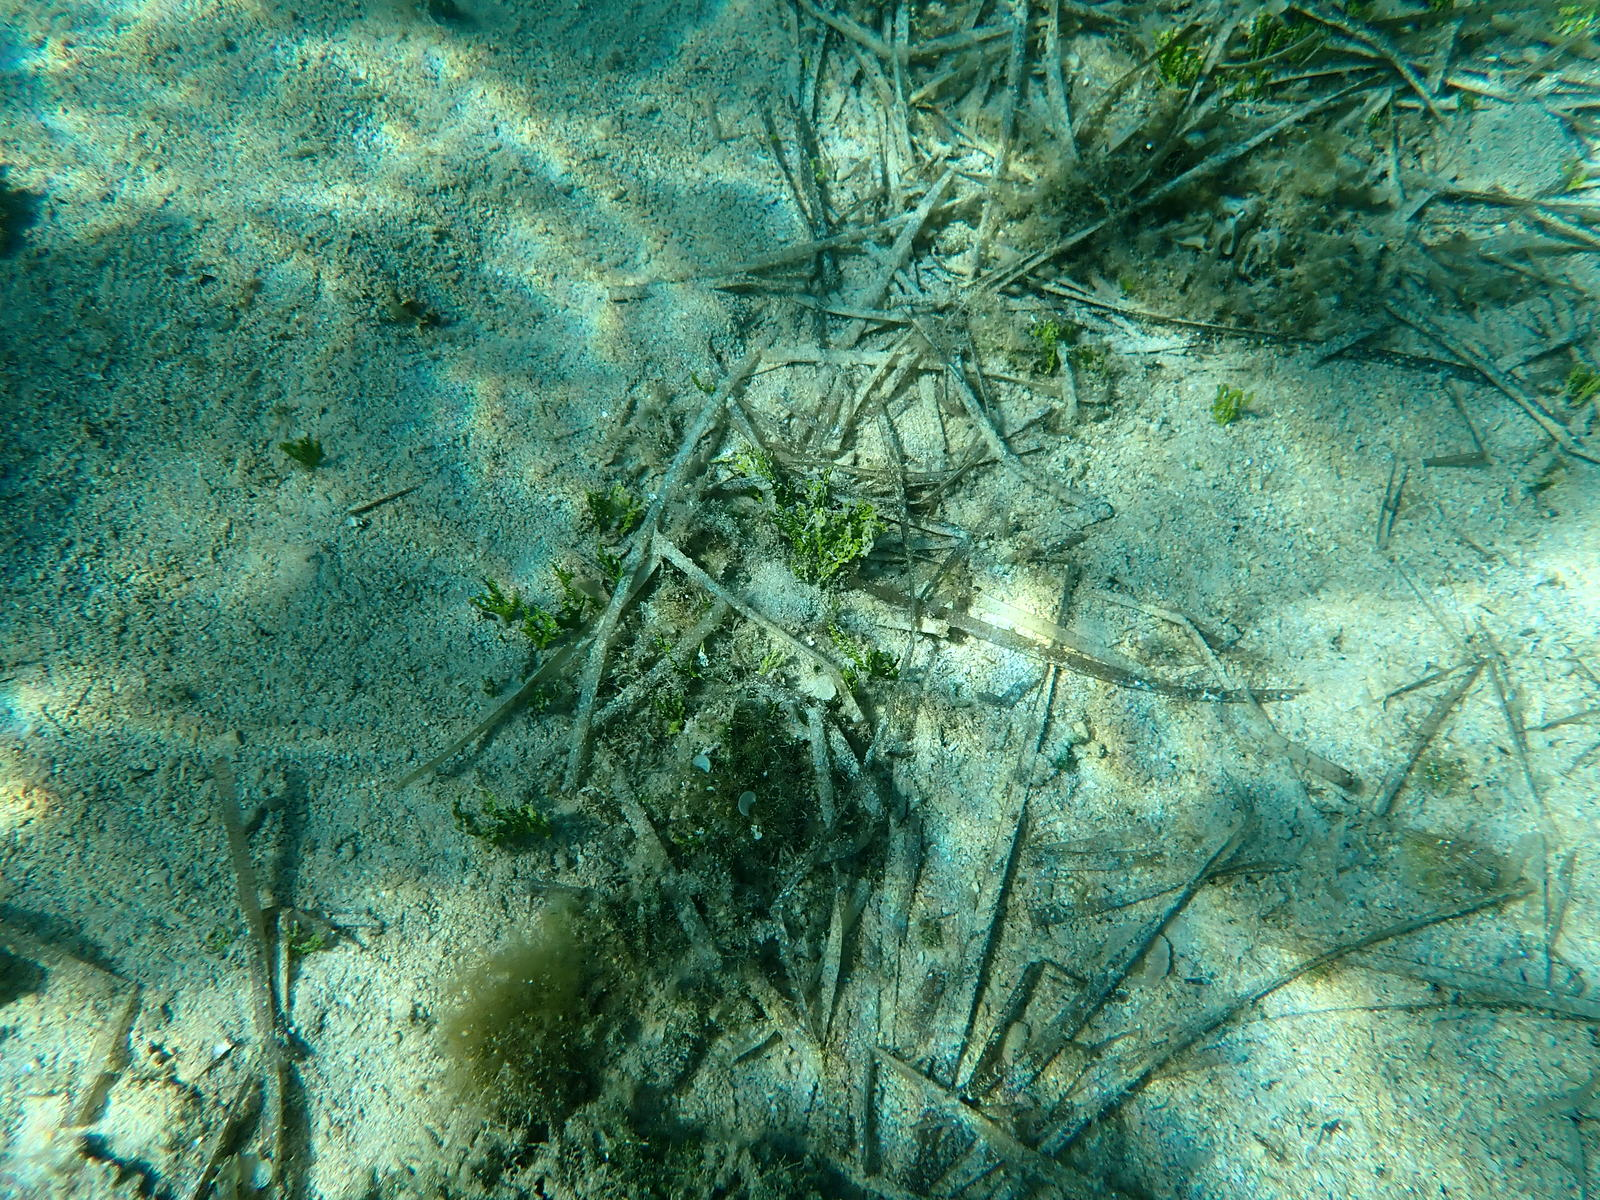halimeda: (777, 474, 886, 576), (447, 794, 553, 846), (826, 624, 891, 676), (1153, 26, 1202, 91), (1251, 11, 1311, 55), (588, 484, 640, 533), (475, 579, 527, 621), (1211, 379, 1250, 429), (1214, 67, 1272, 100), (281, 430, 326, 471), (1553, 1, 1600, 35), (731, 449, 769, 489), (282, 923, 324, 955), (592, 545, 624, 586), (522, 609, 557, 645), (1566, 367, 1600, 405), (757, 650, 796, 681), (1031, 321, 1060, 362), (559, 558, 582, 608), (1565, 164, 1585, 192), (811, 158, 829, 182)
